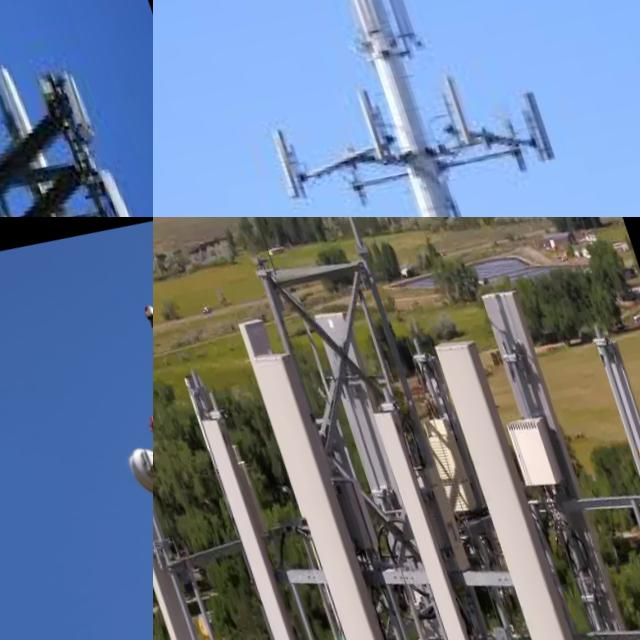GSM Antenna: (419, 311, 611, 640), (470, 262, 628, 640), (235, 321, 422, 640), (302, 293, 420, 560), (191, 400, 308, 640), (153, 342, 219, 640), (580, 308, 640, 609), (0, 38, 61, 202), (502, 74, 561, 162), (335, 77, 392, 168), (252, 119, 302, 201), (88, 150, 141, 217), (428, 63, 471, 145)
Microwave Antenna: (117, 423, 153, 507)
